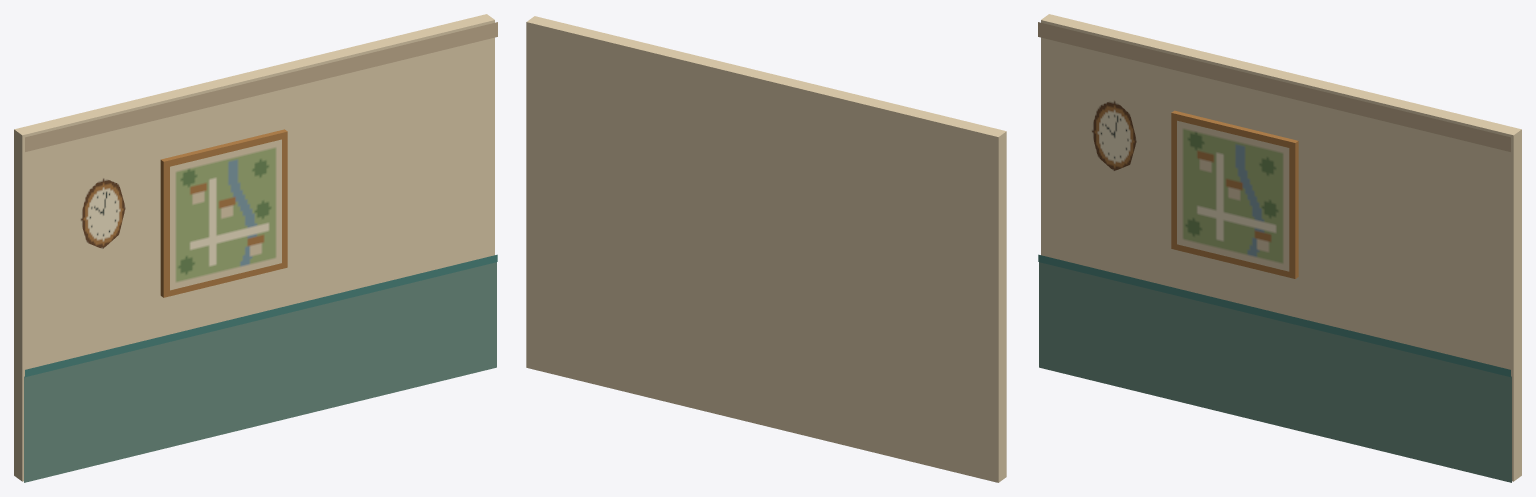
The model's file is north.glb.
3 views of the same model, side by side, from view 1: azimuth 30°, elevation 25°; view 2: azimuth 150°, elevation 25°; view 3: azimuth 330°, elevation 25° (orthographic).
Parts seen in each view (by area): view 1: north; view 2: north; view 3: north.
Boxes of the visible parts, x1=… form: north: x1=14, y1=14, x2=497, y2=482; north: x1=526, y1=16, x2=1006, y2=482; north: x1=1038, y1=14, x2=1521, y2=482.
Size of the model in its own units: 4 by 2.8 by 0.204.
Materials: 1 (1 with a texture image).
